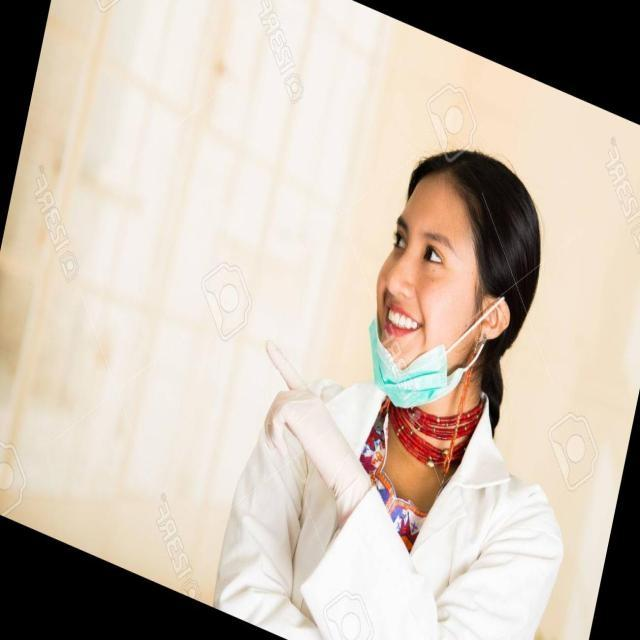hairnet: (358, 202, 506, 412)
